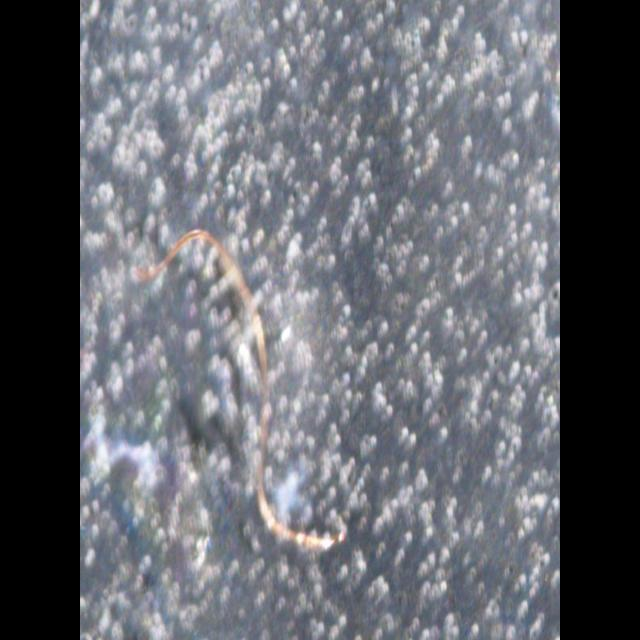Fibre: (130, 226, 346, 554)
